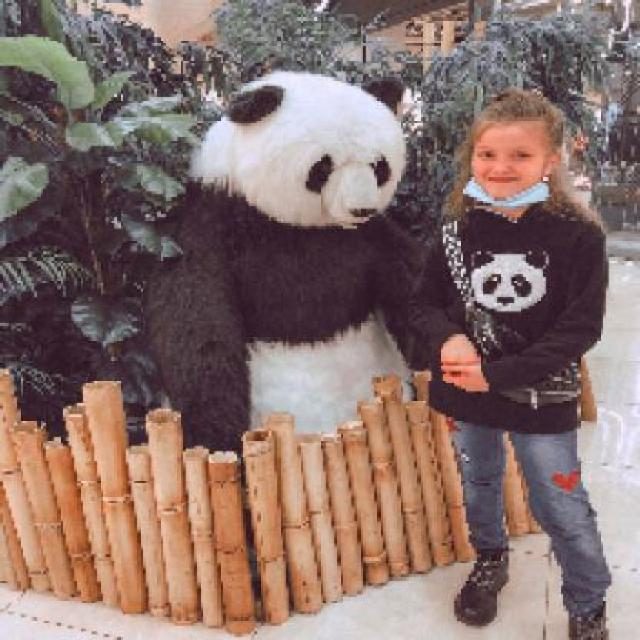child: (408, 85, 614, 638)
